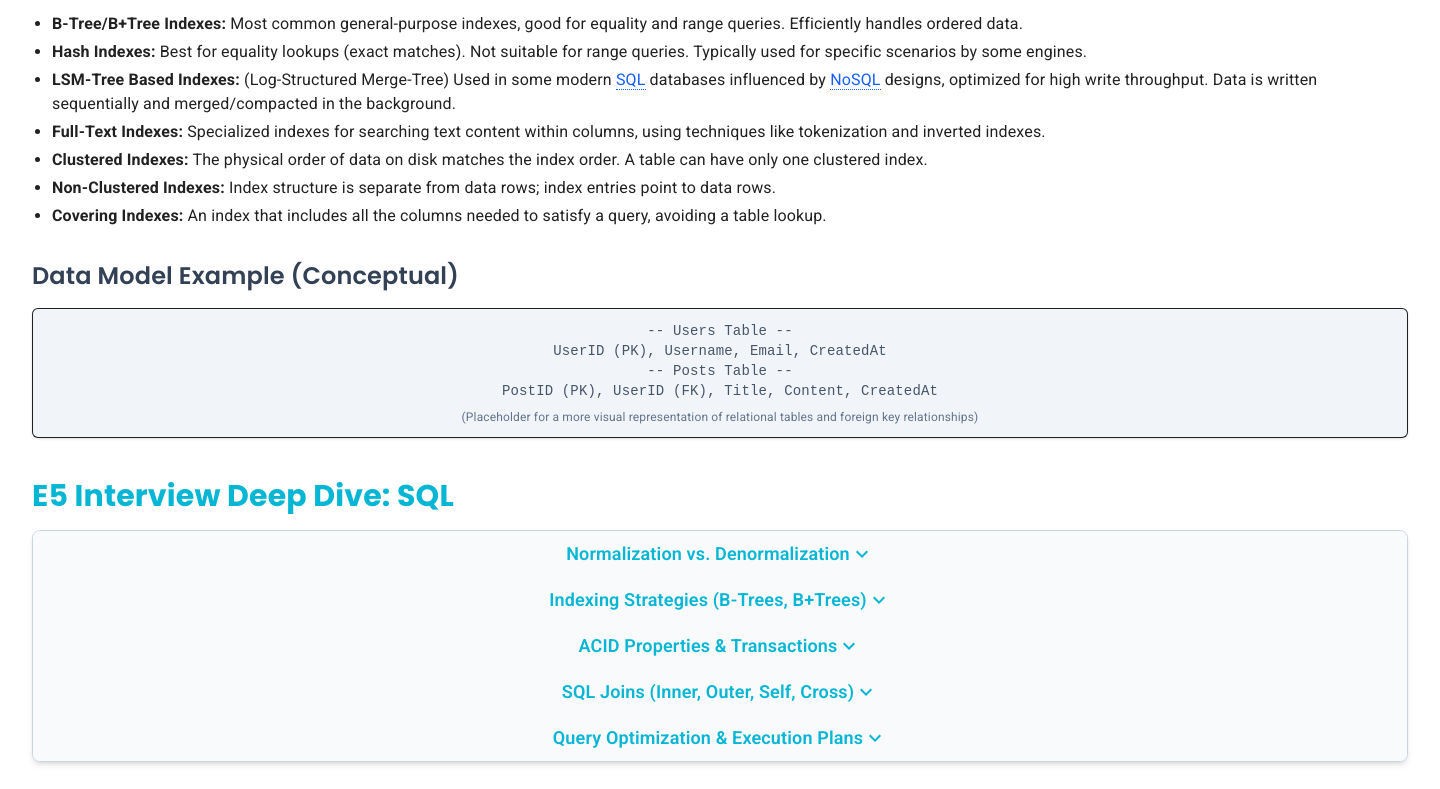
Scenario: SectionSqlDB › clicking an open accordion item closes it
(page scrolled)
Note: Open it first
Step 1. Click the button "Normalization vs. Denormalization" → click(720, 554), box [33, 531, 1407, 577]
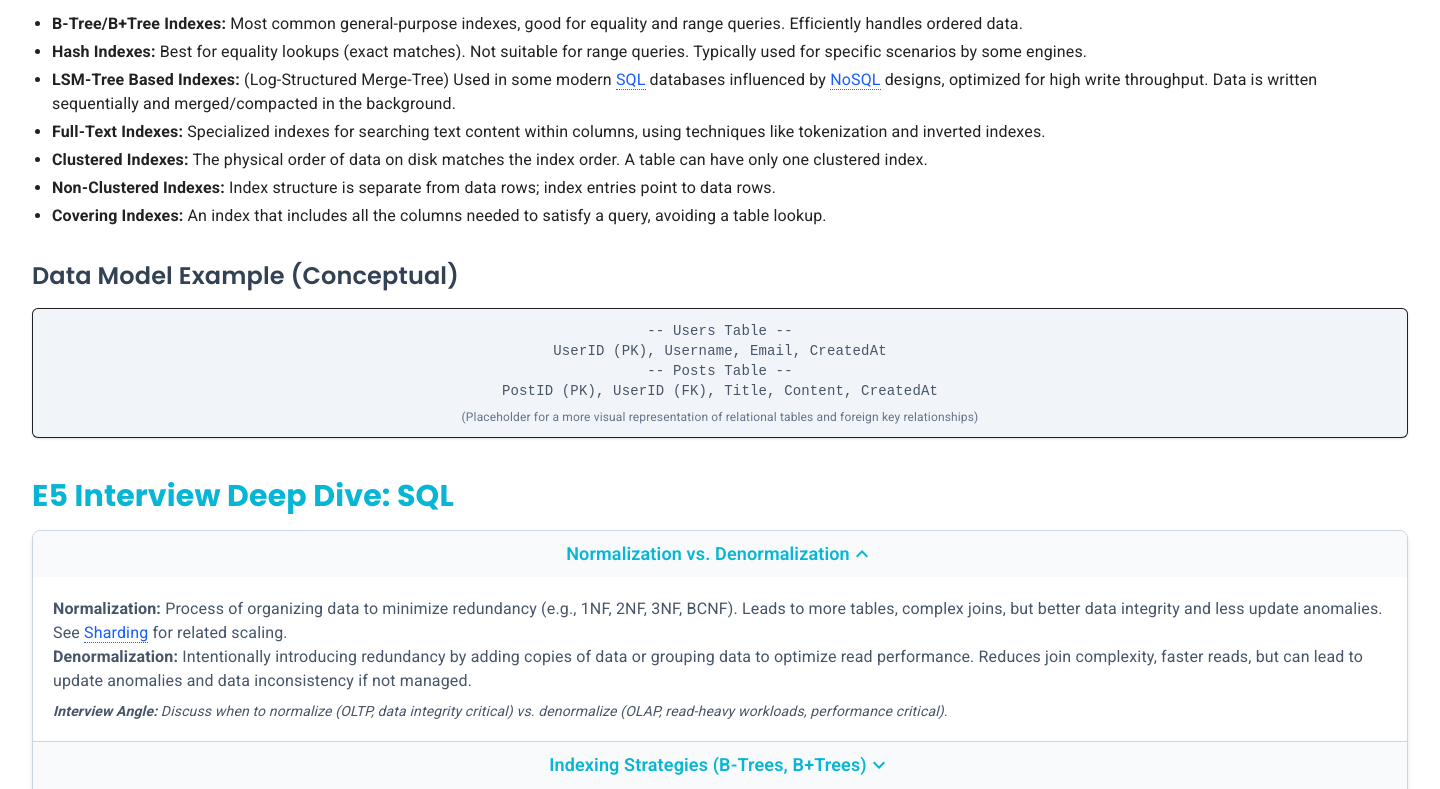
expect the element with test id "accordion-content-0" shows "Normalization: Process of organizing data": met, box [53, 597, 1387, 721]
expect the icon with test id "KeyboardArrowUpIcon" is shown: met, box [850, 542, 874, 566]
Note: Click again to close
Step 2. Click the button "Normalization vs. Denormalization" → click(720, 554), box [33, 531, 1407, 577]
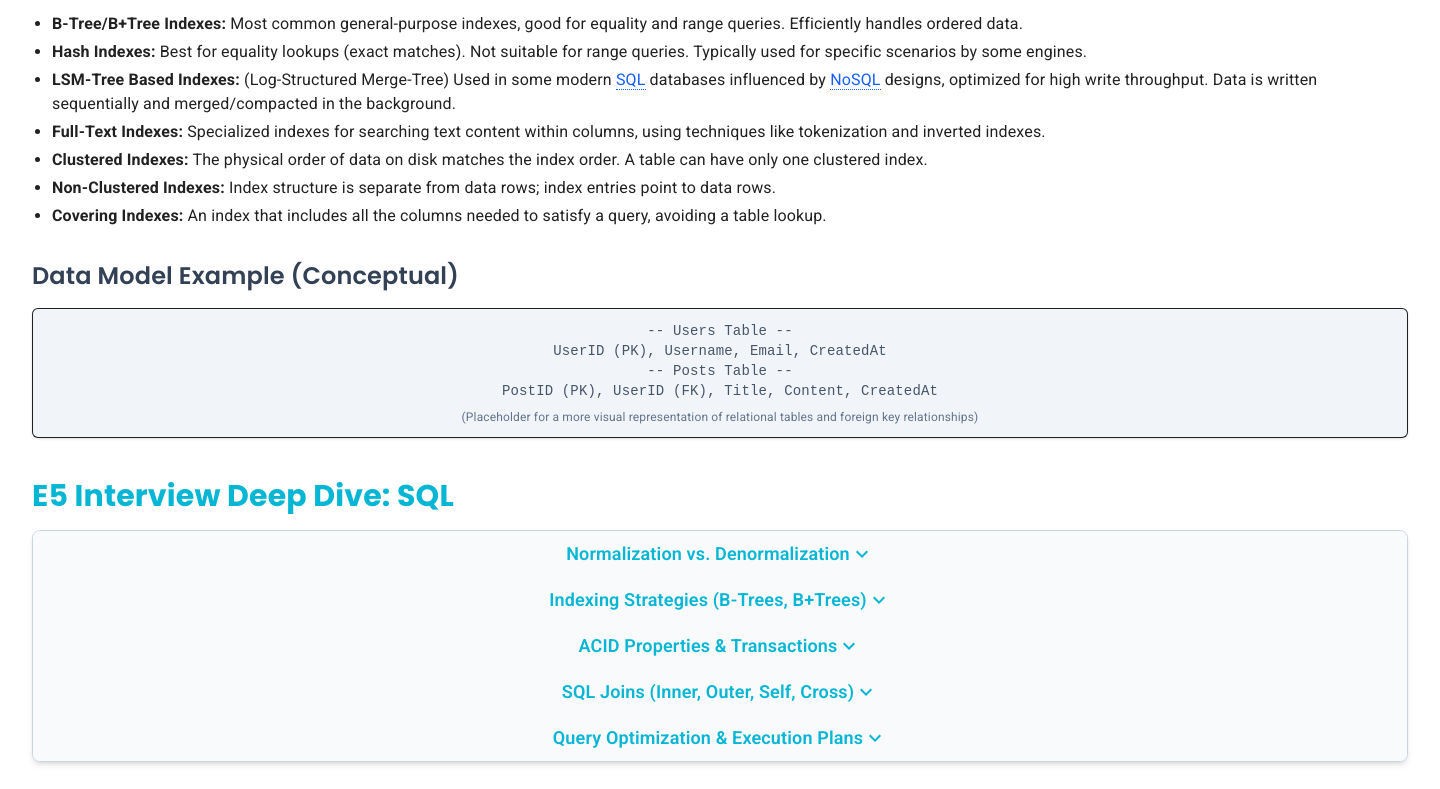
expect the element with test id "accordion-content-0" is gone: met
expect the 1st icon with test id "KeyboardArrowDownIcon" is shown: met, box [850, 542, 874, 566]
expect the icon with test id "KeyboardArrowUpIcon" is gone: met
